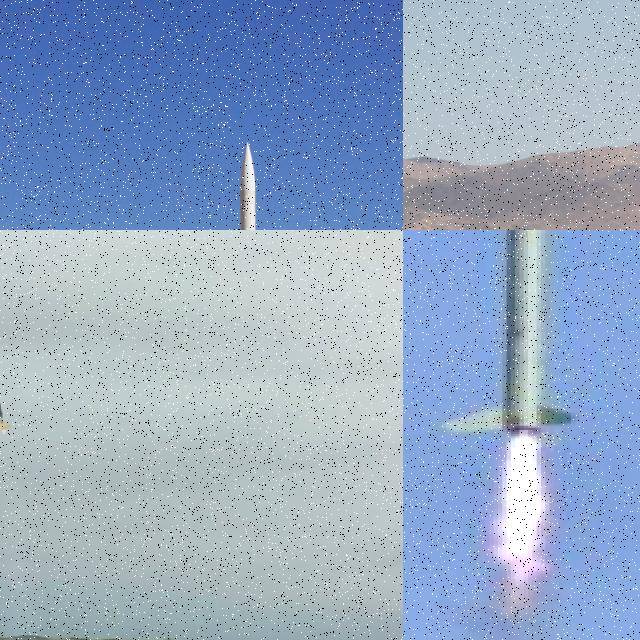Rocket: (435, 230, 588, 446), (229, 140, 277, 230), (0, 399, 13, 430)
